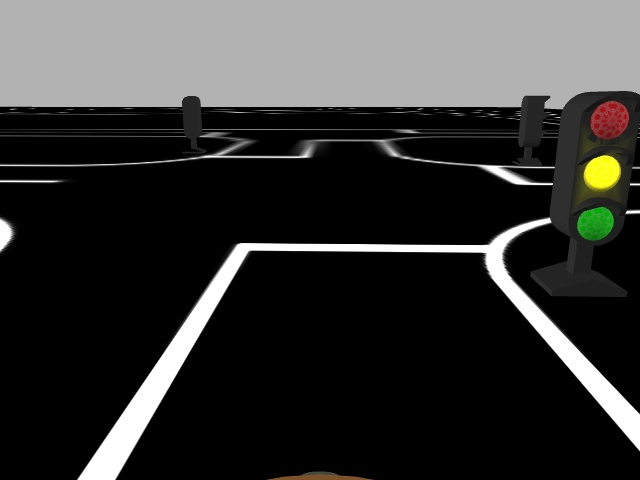yellow_light: (562, 91, 640, 247)
